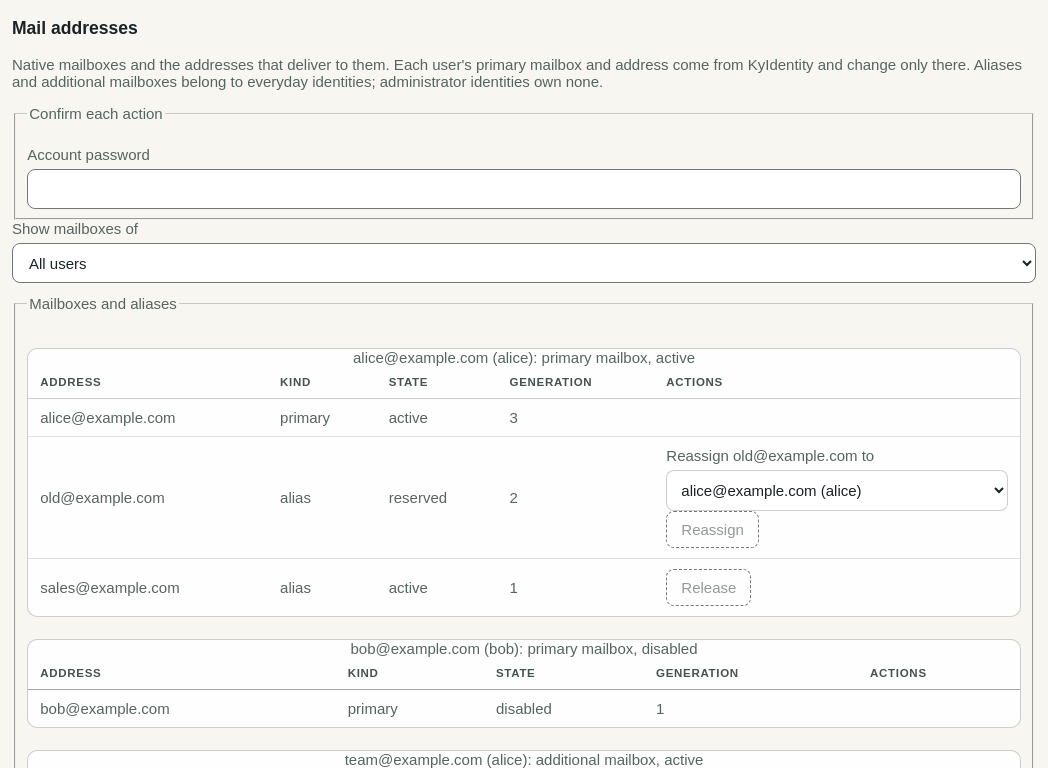
it: shows a committed change with pending routes as a warning, not an error
The width and height of the screenshot is (1048, 768).
Expected: the text "sales@example.com" is shown, top-left (28, 559), bottom-right (268, 616)
In the password field labelled "Account password": (524, 189) top-left (27, 169), bottom-right (1021, 209), type "account-secret"
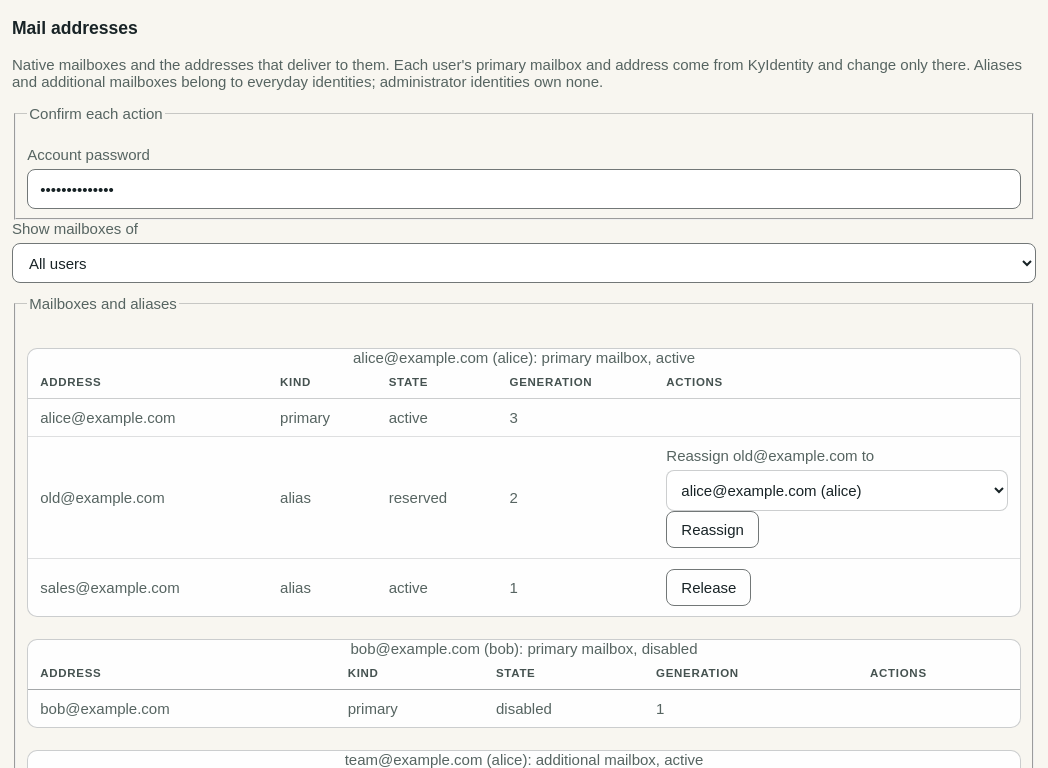
Click the button with aria-label "Release sales@example.com": (709, 588) top-left (666, 570), bottom-right (751, 606)
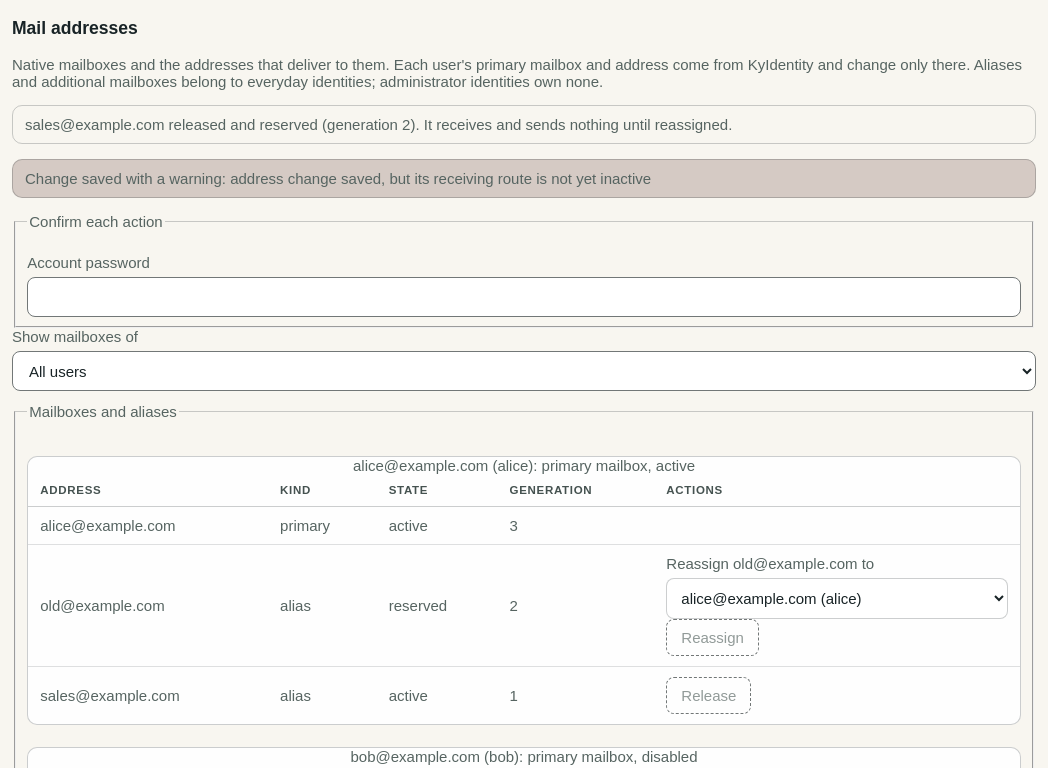
Expected: the element "Confirm each action" is enabled, top-left (14, 213), bottom-right (1034, 328)
Now the text "released and reserved" is shown, box top-left (25, 116), bottom-right (732, 133)
